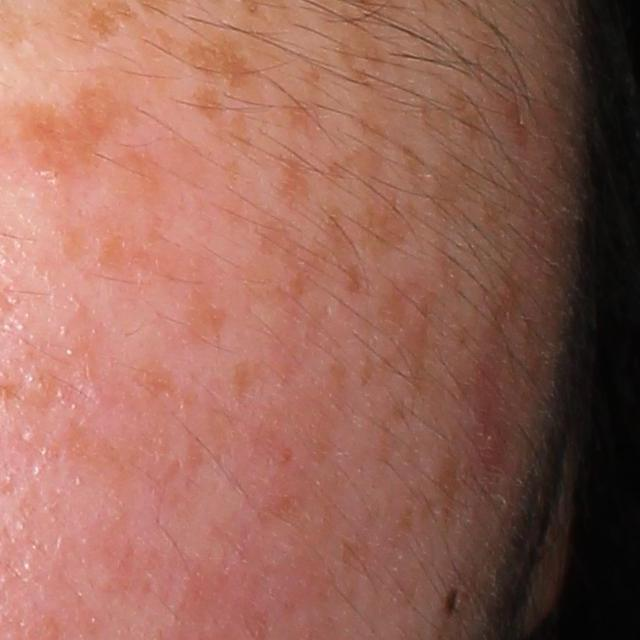melasma: (321, 101, 419, 266), (241, 205, 368, 315), (398, 141, 514, 260), (352, 275, 441, 398), (152, 27, 256, 95), (126, 356, 200, 429), (419, 83, 492, 148), (284, 64, 326, 150), (178, 286, 230, 353), (265, 152, 311, 213), (212, 105, 255, 163), (227, 357, 270, 409), (433, 235, 468, 298), (191, 83, 224, 125)
